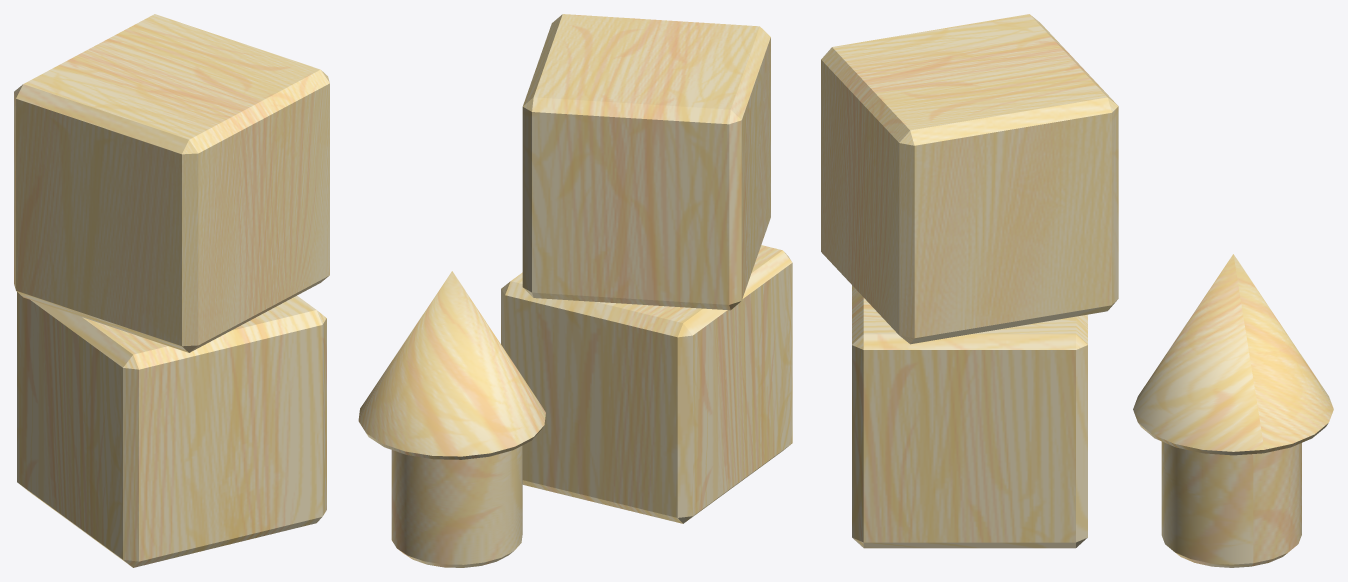
File: wood2.fbx
3 views of the same model, side by side, from view 1: azimuth 30°, elevation 25°; view 2: azimuth 150°, elevation 25°; view 3: azimuth 270°, elevation 25° (orthographic). The views are drawn at different scales.
Visible parts, largest first — view 1: pCube3; view 2: pCube3; view 3: pCube3.
Part boxes in pixels (x1,y1,x2,y2): pCube3: (14, 14, 329, 567); pCube3: (358, 14, 792, 567); pCube3: (821, 14, 1333, 567).
Size of the model in its own units: 17.01 by 24.22 by 25.92.
